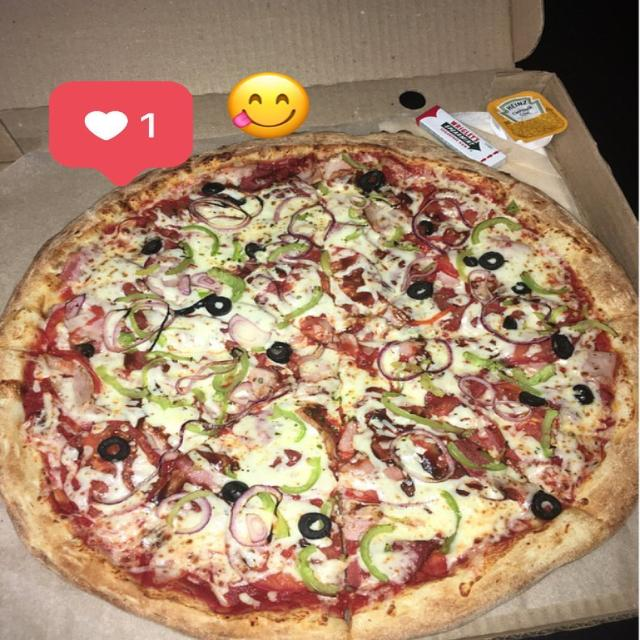black_olives: (532, 491, 562, 520), (298, 513, 330, 538), (98, 436, 128, 462), (301, 514, 330, 537), (98, 437, 128, 459), (265, 341, 293, 364), (218, 481, 250, 501), (221, 481, 249, 501), (551, 335, 575, 357), (406, 281, 433, 300), (205, 297, 232, 315), (572, 384, 594, 404), (268, 343, 292, 361), (480, 252, 504, 270), (246, 242, 268, 260), (411, 282, 432, 298), (522, 391, 546, 405), (359, 173, 383, 187), (411, 280, 432, 294), (202, 182, 224, 195), (77, 342, 94, 356), (511, 282, 532, 293), (504, 316, 520, 330), (143, 240, 158, 252), (461, 256, 479, 266), (420, 220, 432, 234), (411, 299, 432, 299)
pizza: (2, 131, 640, 638)
